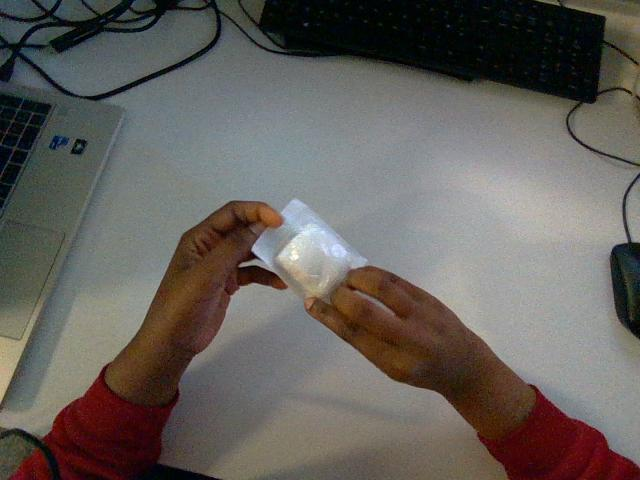gauze: (252, 199, 366, 299)
